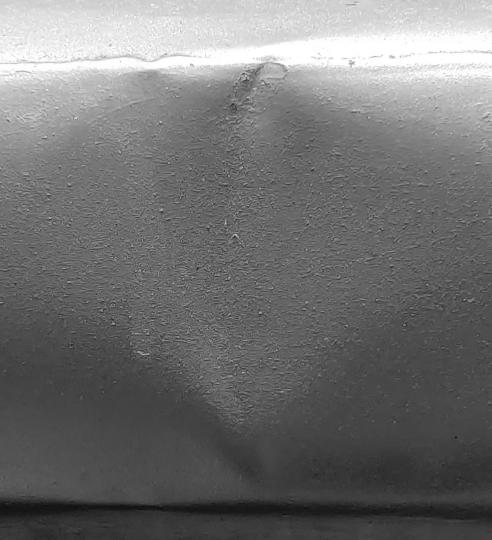dent: (1, 1, 492, 540)
